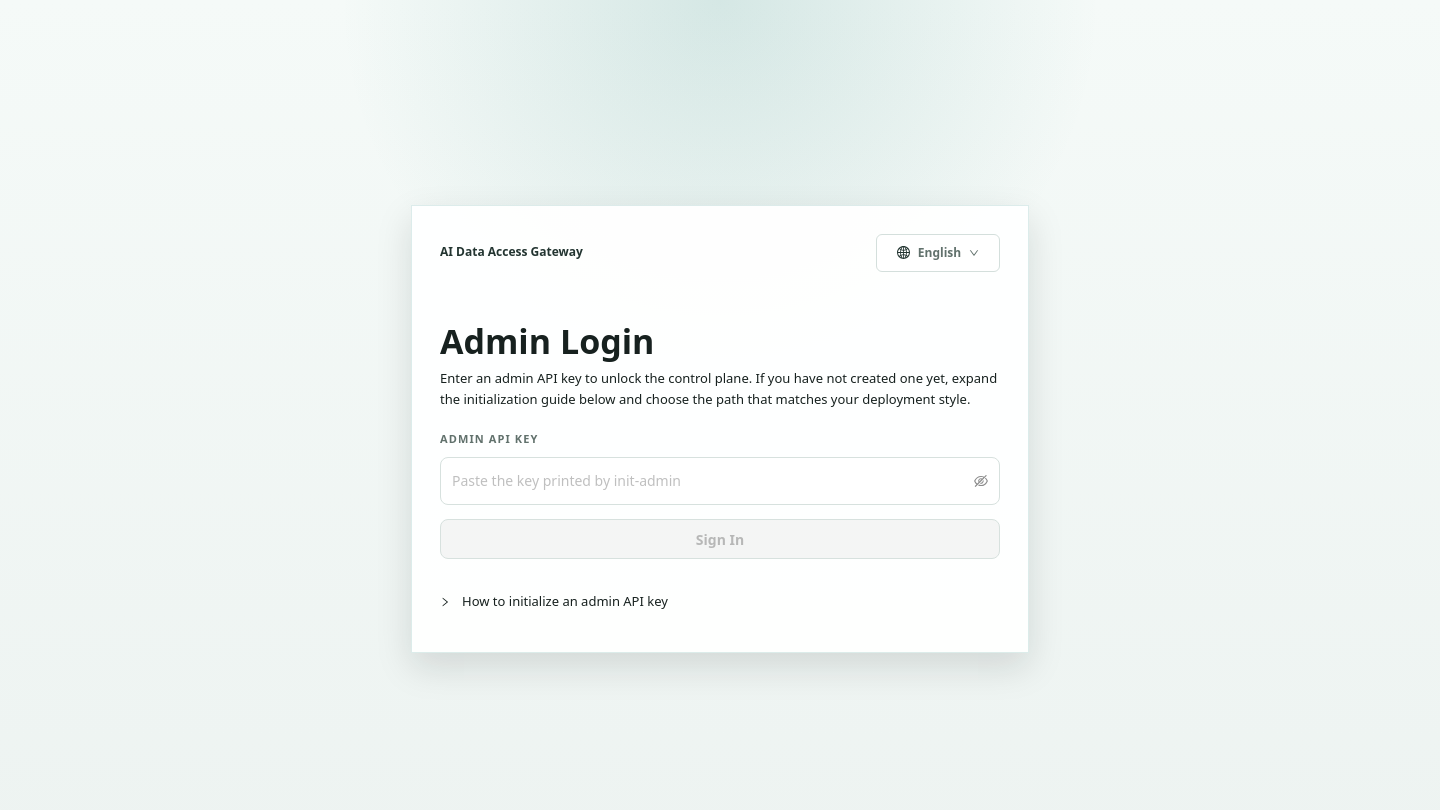
Test: Roles page › keeps audit rows summary-only and loads raw SQL on demand
This screenshot has width=1440, height=810.
Type "adg_admin" into the password field with placeholder "Paste the key printed by init-admin".
click(711, 482); type("adg_admin")  # box [452,466,970,496]
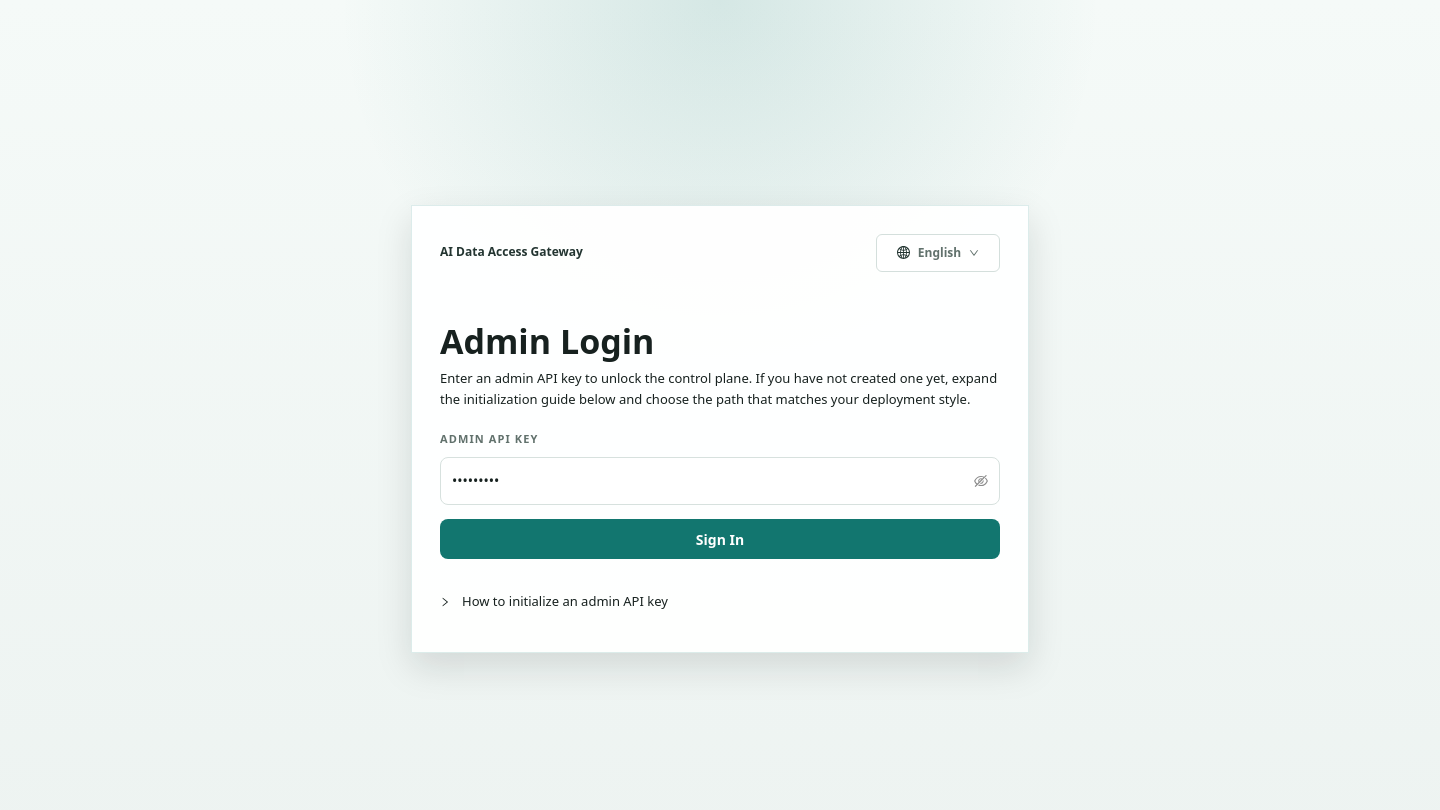
Click the button "Sign In".
click(720, 540)  # box [440,520,1000,560]
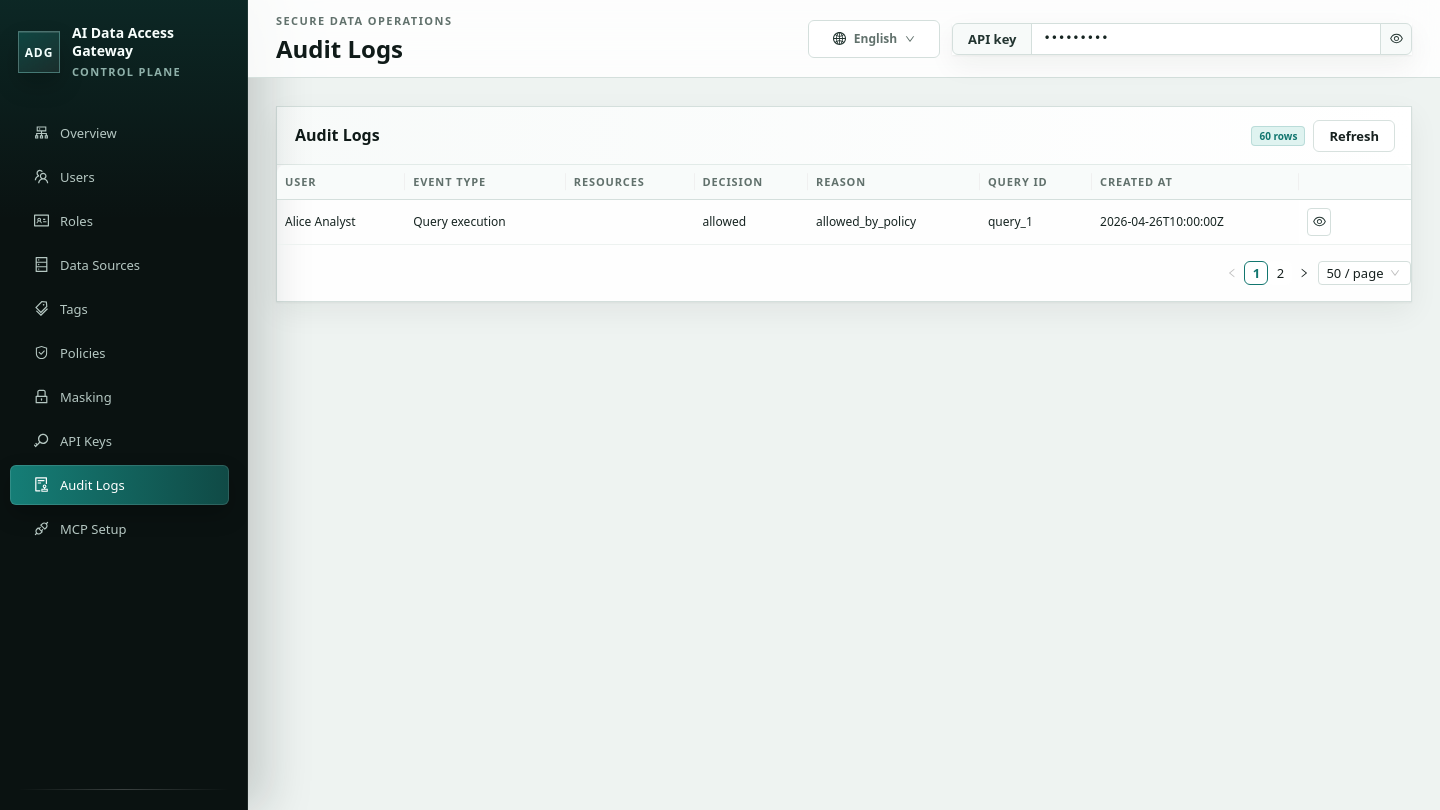
Expected: the text "select id from public.customers limit 1" is not shown
Now the text "query_1" is shown, box [980,200,1092,245]
Click the button named "View audit log details".
click(1319, 222)  # box [1307,208,1331,236]
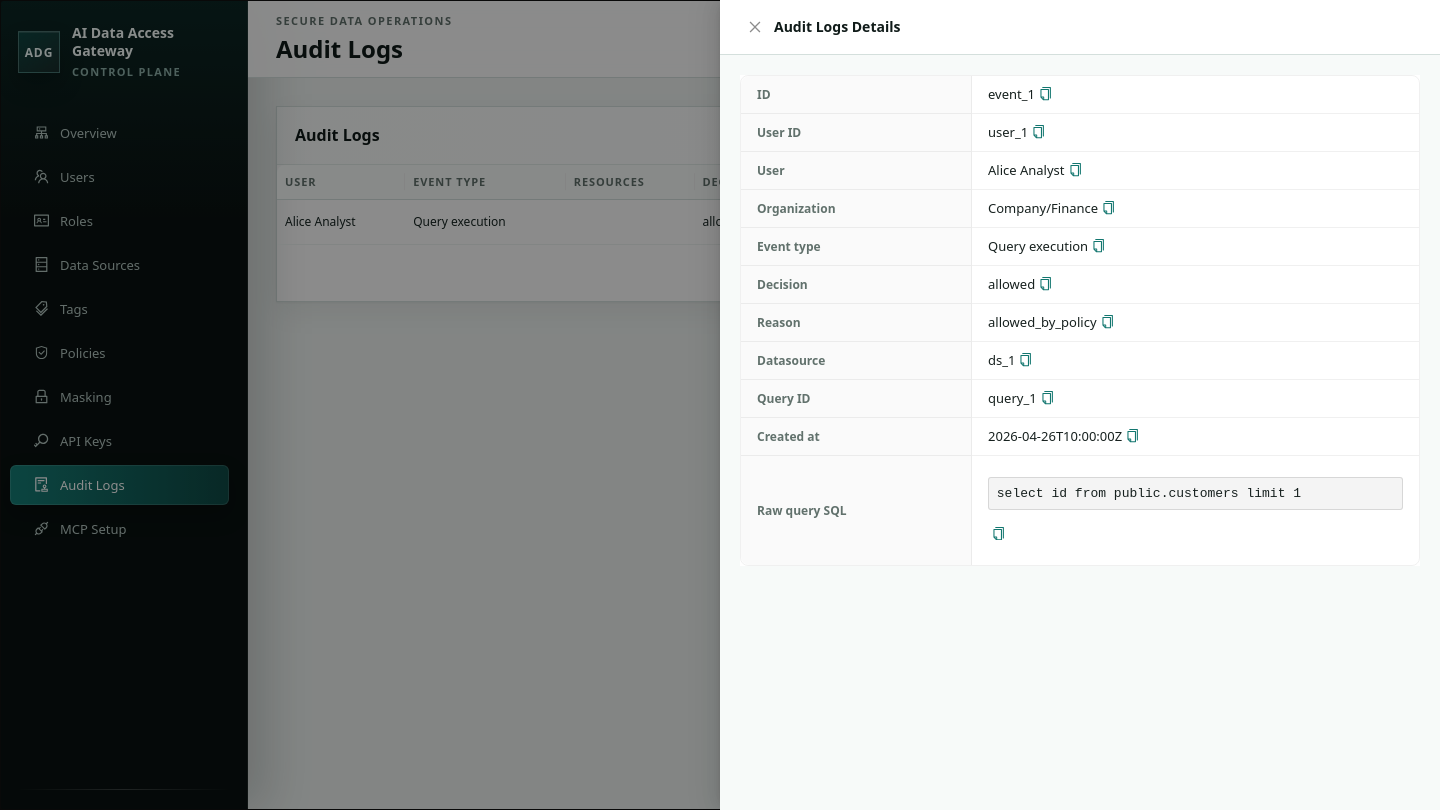
Now the text "Raw query SQL" is shown, box [757,502,846,519]
Now the text "select id from public.customers limit 1" is shown, box [988,477,1403,510]
